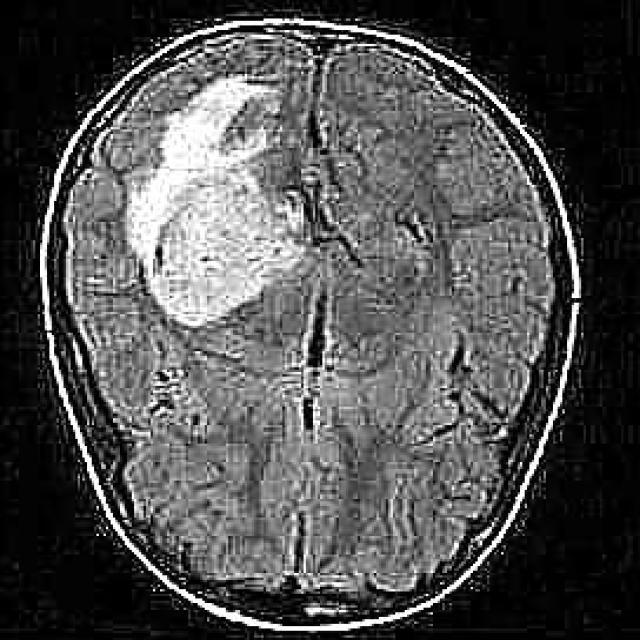brain tumor: (127, 79, 308, 326)
